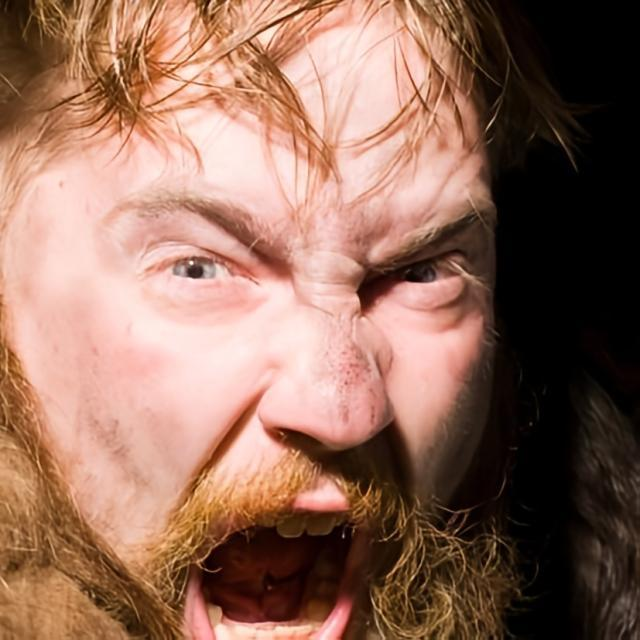anger: (31, 55, 530, 640)
